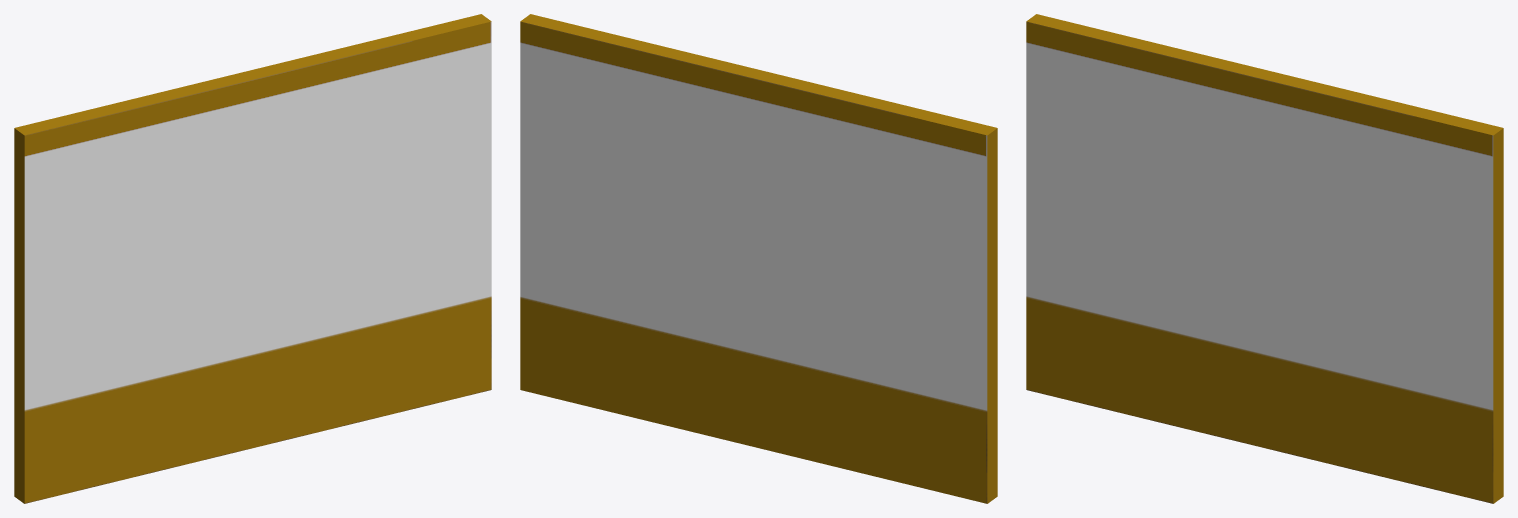
File: KHIP_Wall_Interior.FBX
3 views of the same model, side by side, from view 1: azimuth 30°, elevation 25°; view 2: azimuth 150°, elevation 25°; view 3: azimuth 330°, elevation 25° (orthographic).
Visible parts, largest first — view 1: KHIP_Wall_Interior; view 2: KHIP_Wall_Interior; view 3: KHIP_Wall_Interior.
Boxes of the visible parts, bbox=[...] form: KHIP_Wall_Interior: bbox=[14, 14, 491, 503]; KHIP_Wall_Interior: bbox=[520, 14, 997, 503]; KHIP_Wall_Interior: bbox=[1026, 14, 1503, 503].
Bounding box in the file's own units: 189 × 142 × 7.17.
